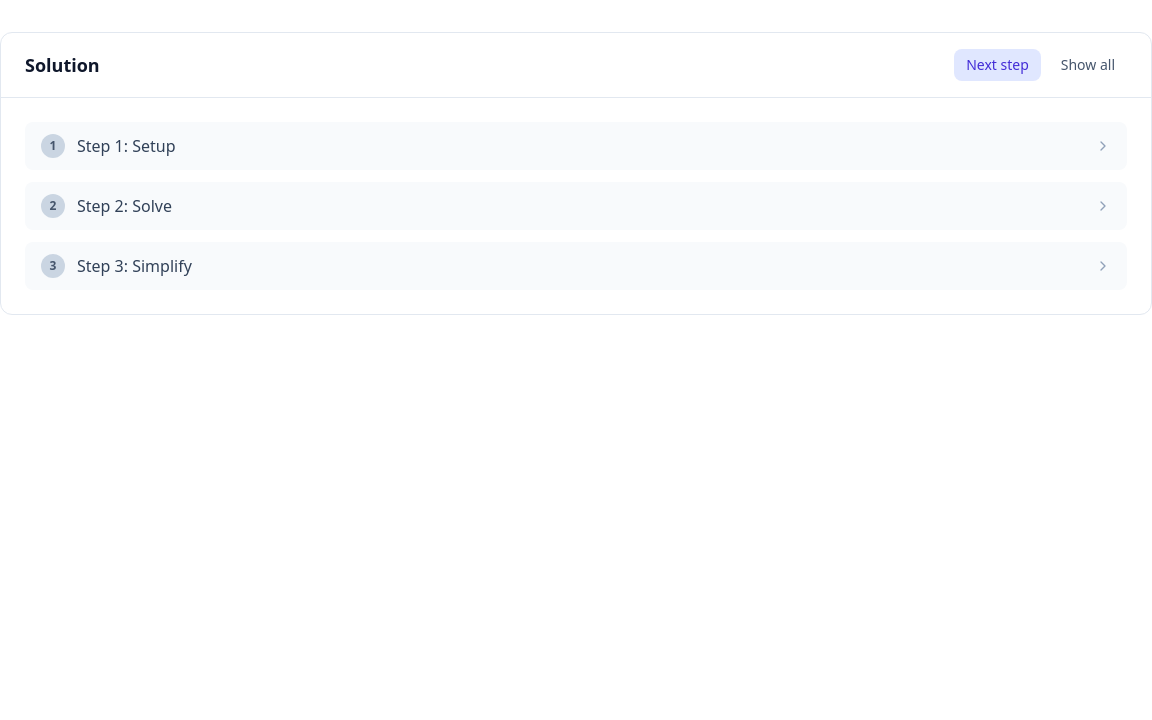
Test case: StepByStep › "Hide all" hides all steps after they were shown via "Show all"
The width and height of the screenshot is (1152, 720).
What coordinates should you click on to do the following:
click the button "Show all"
I would click on:
 (1088, 65)
Its box is 1049,49 -> 1127,81.
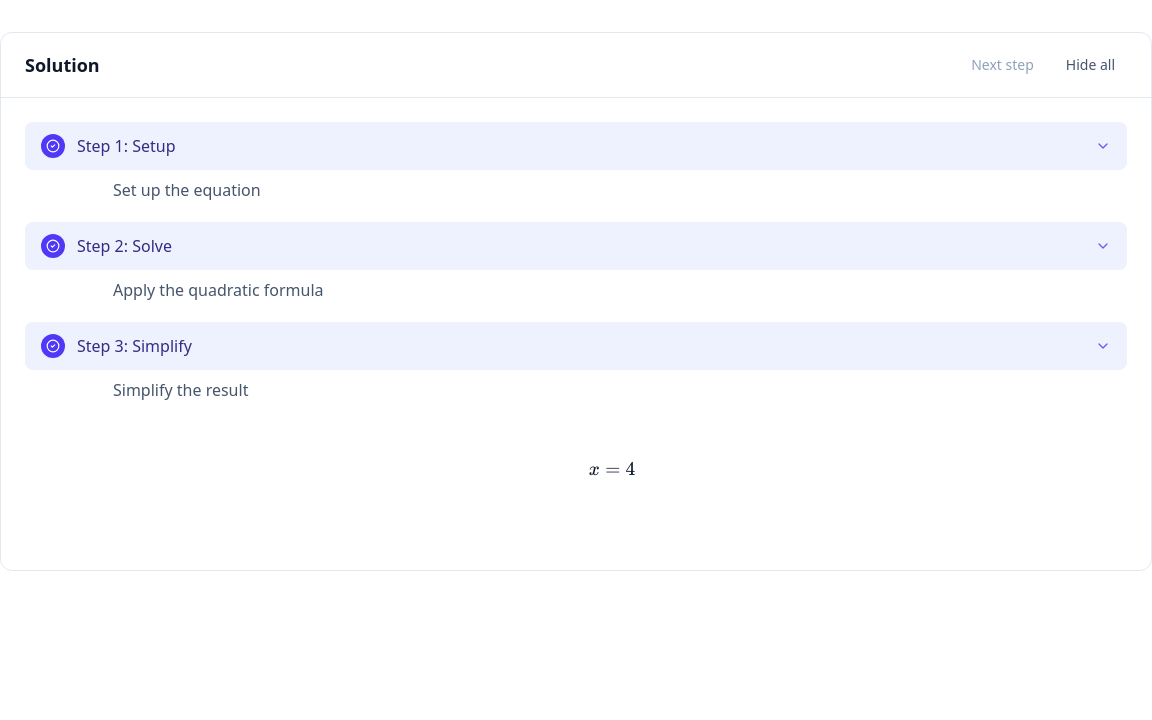
Check: the text "Set up the equation" is shown, box 113,179 -> 261,201
What coordinates should you click on to do the following:
click the button "Hide all"
I would click on:
 (1090, 65)
Its box is 1054,49 -> 1127,81.
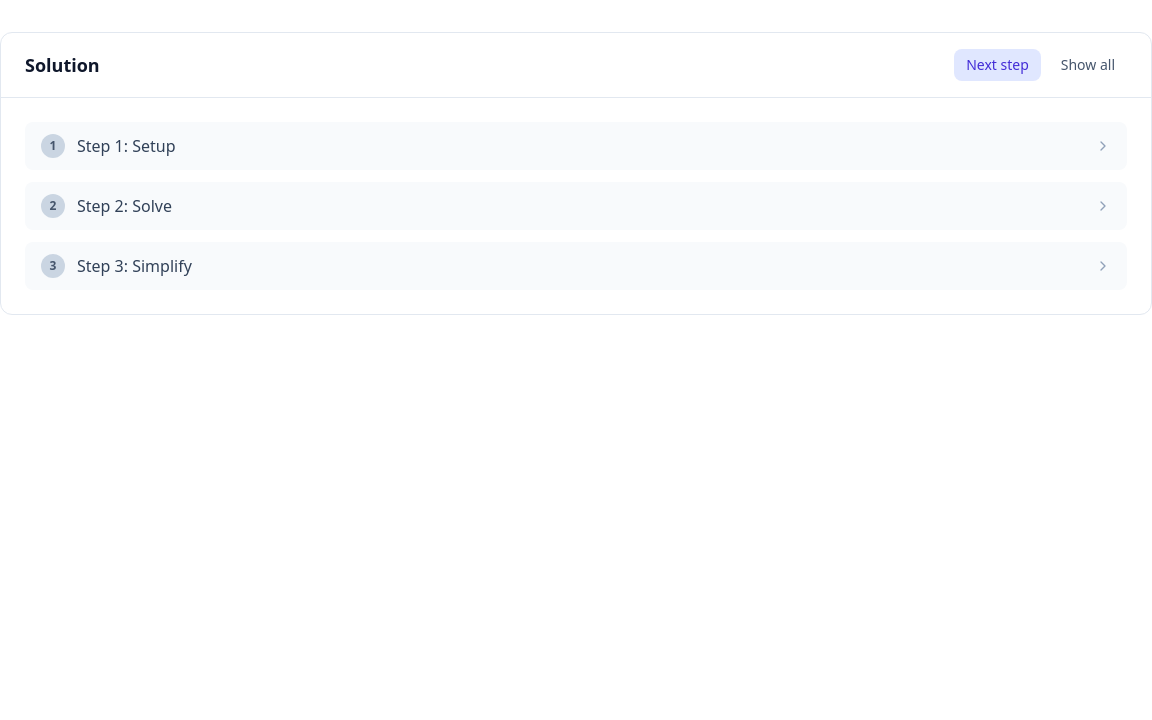
Check: the text "Set up the equation" is gone
Check: the text "Apply the quadratic formula" is gone
